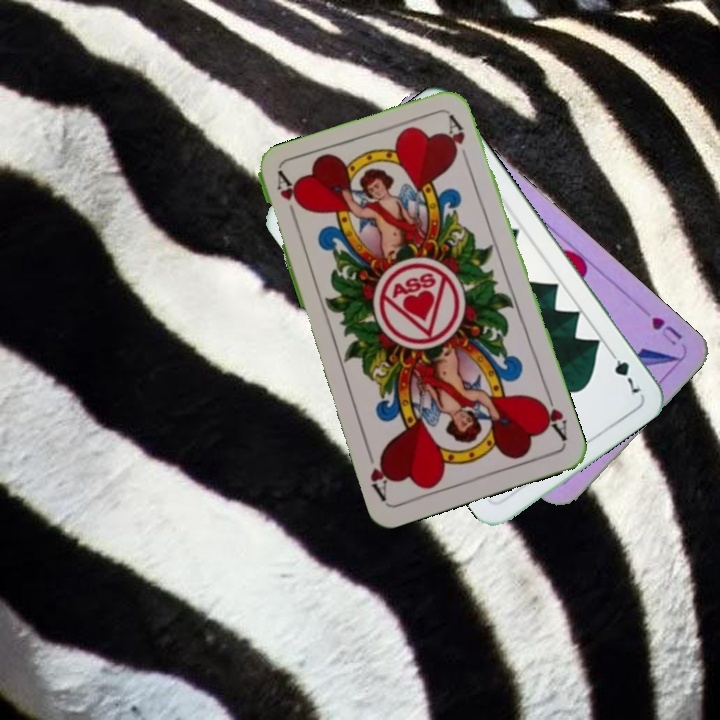G7: (604, 345, 643, 399)
HA: (534, 387, 570, 444), (273, 169, 304, 227)
HU: (647, 312, 685, 349)
